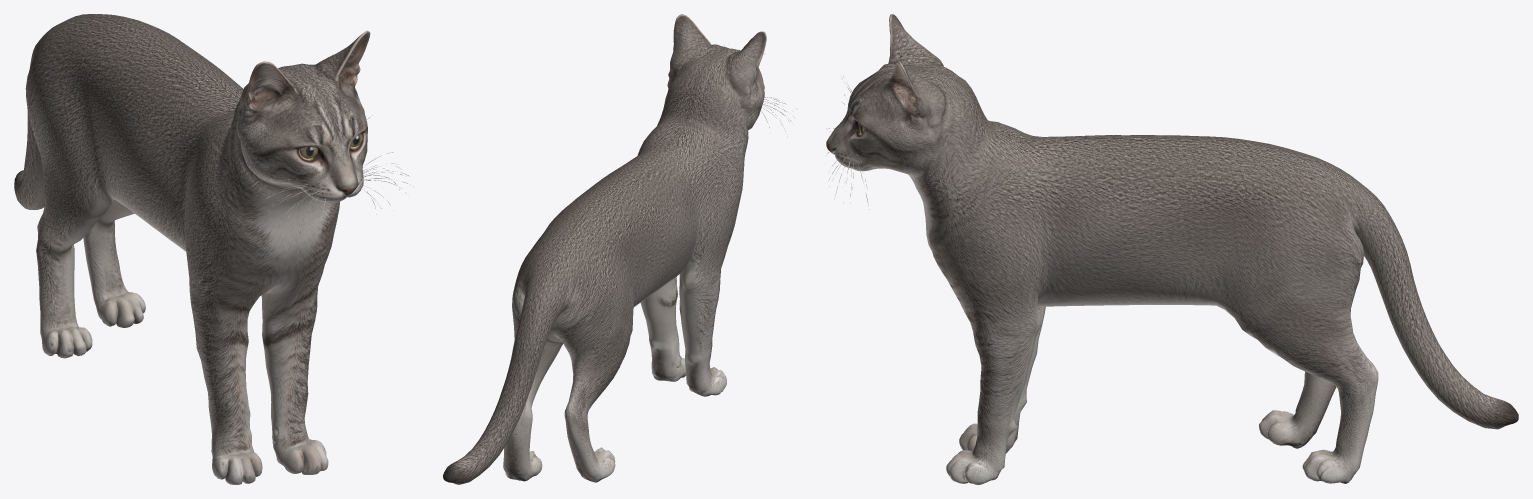
File: gray+cat+3d+model_Clone1.glb
3 views of the same model, side by side, from view 1: azimuth 30°, elevation 25°; view 2: azimuth 150°, elevation 25°; view 3: azimuth 270°, elevation 25° (orthographic). The views are drawn at different scales.
Visible parts, largest first — view 1: tripo_node_56df3e1a-f1ab-4a8e-85ca-ba48ceee5043; view 2: tripo_node_56df3e1a-f1ab-4a8e-85ca-ba48ceee5043; view 3: tripo_node_56df3e1a-f1ab-4a8e-85ca-ba48ceee5043.
Boxes of the visible parts, x1,y1,x2,y2 form: tripo_node_56df3e1a-f1ab-4a8e-85ca-ba48ceee5043: (14, 14, 413, 484); tripo_node_56df3e1a-f1ab-4a8e-85ca-ba48ceee5043: (443, 14, 797, 484); tripo_node_56df3e1a-f1ab-4a8e-85ca-ba48ceee5043: (826, 14, 1518, 484).
Size of the model in its own units: 0.2305 by 0.6802 by 0.9995.
1 material, 1 textured.
